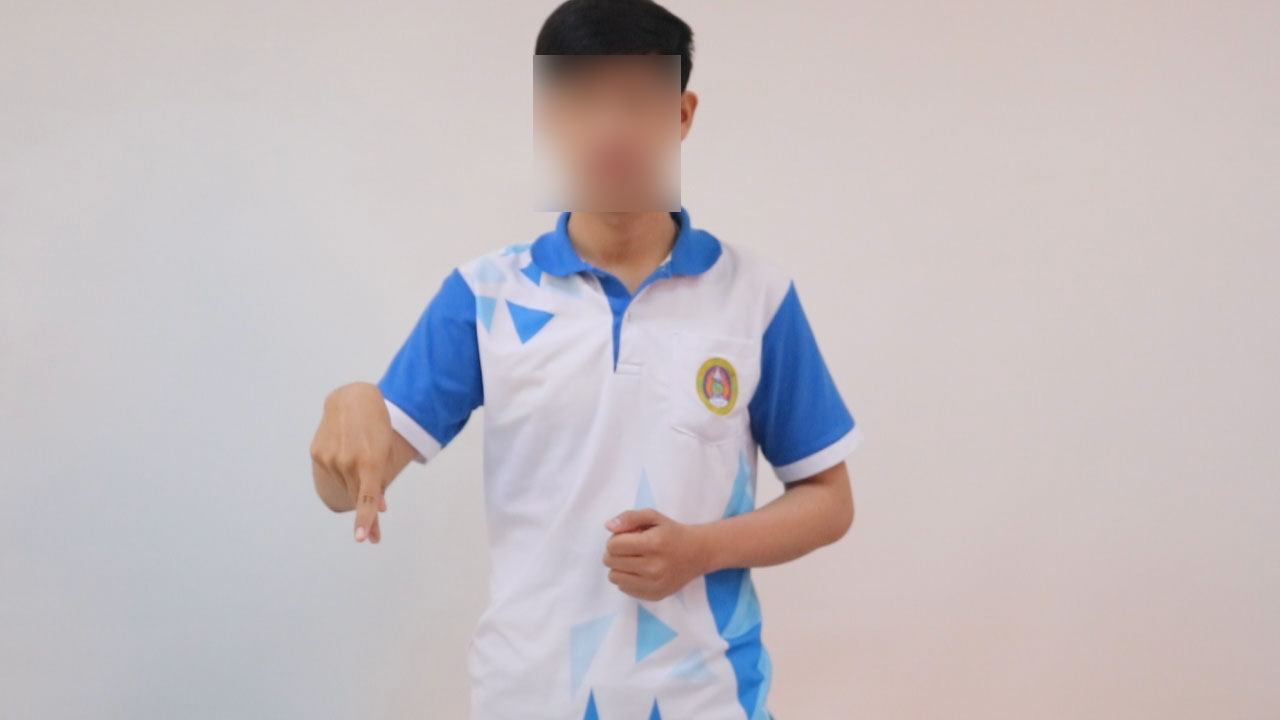por: (309, 373, 410, 560)
